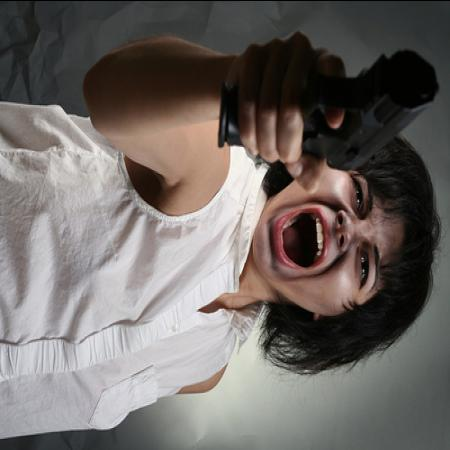Pistol: (218, 44, 438, 170)
